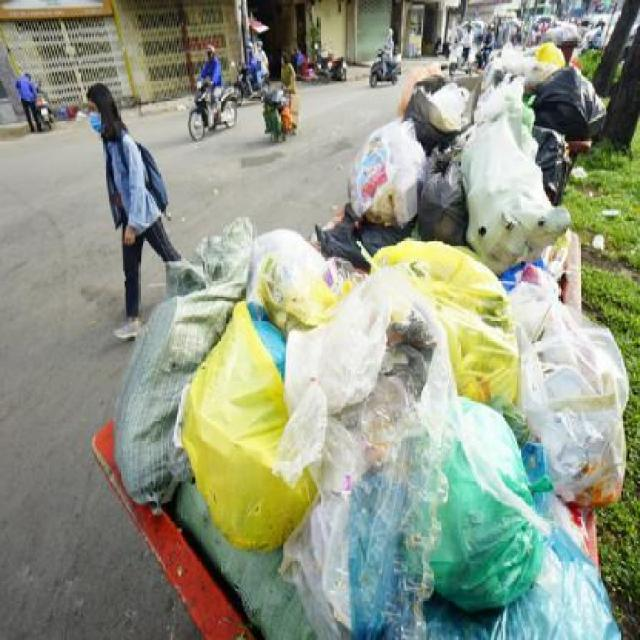plastic bag: (90, 181, 638, 637), (451, 74, 575, 271), (468, 29, 603, 148), (342, 120, 426, 229), (402, 57, 463, 148)
